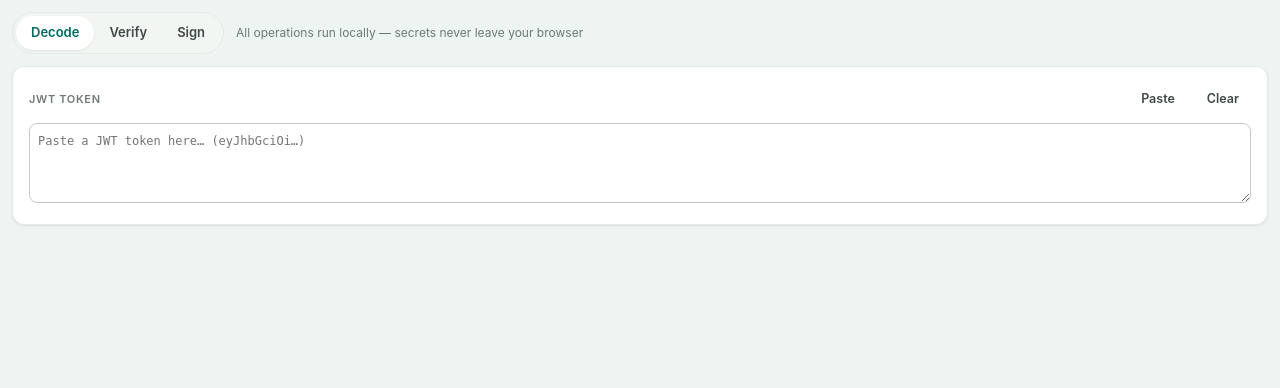
Test: JWT page › Verify mode › shows algorithm selector with HS256/HS384/HS512
What coordinates should you click on to do the following:
click the button "Verify"
I would click on:
 (128, 33)
Its box is [94,16,162,50].
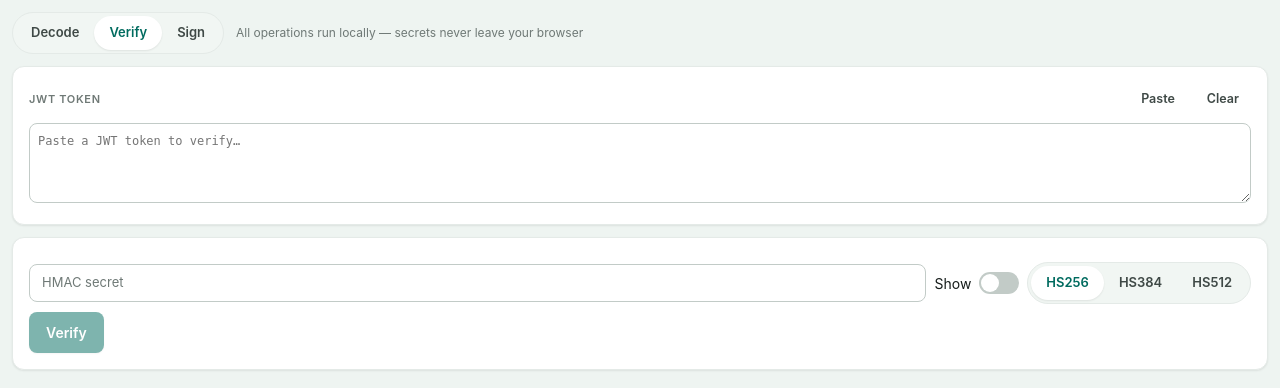
Expected: the element named "HMAC algorithm" is shown, [1027,262,1251,304]
Expected: the button "HS256" is shown, [1031,266,1104,300]
Expected: the button "HS384" is shown, [1104,266,1177,300]
